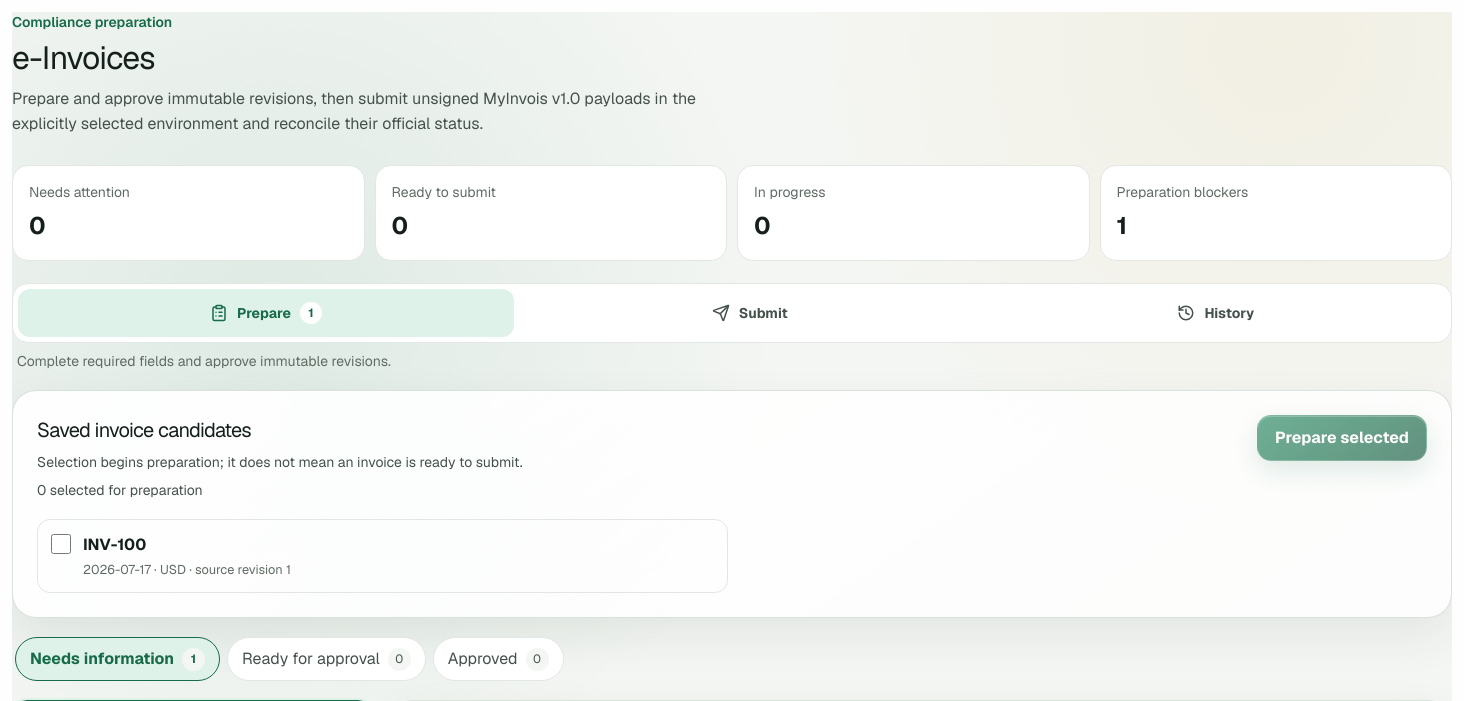
Test: EInvoiceWorkspace › supports keyboard-native candidate selection and reports the selected count
Click the checkbox: (61, 544) [51, 534, 71, 554]
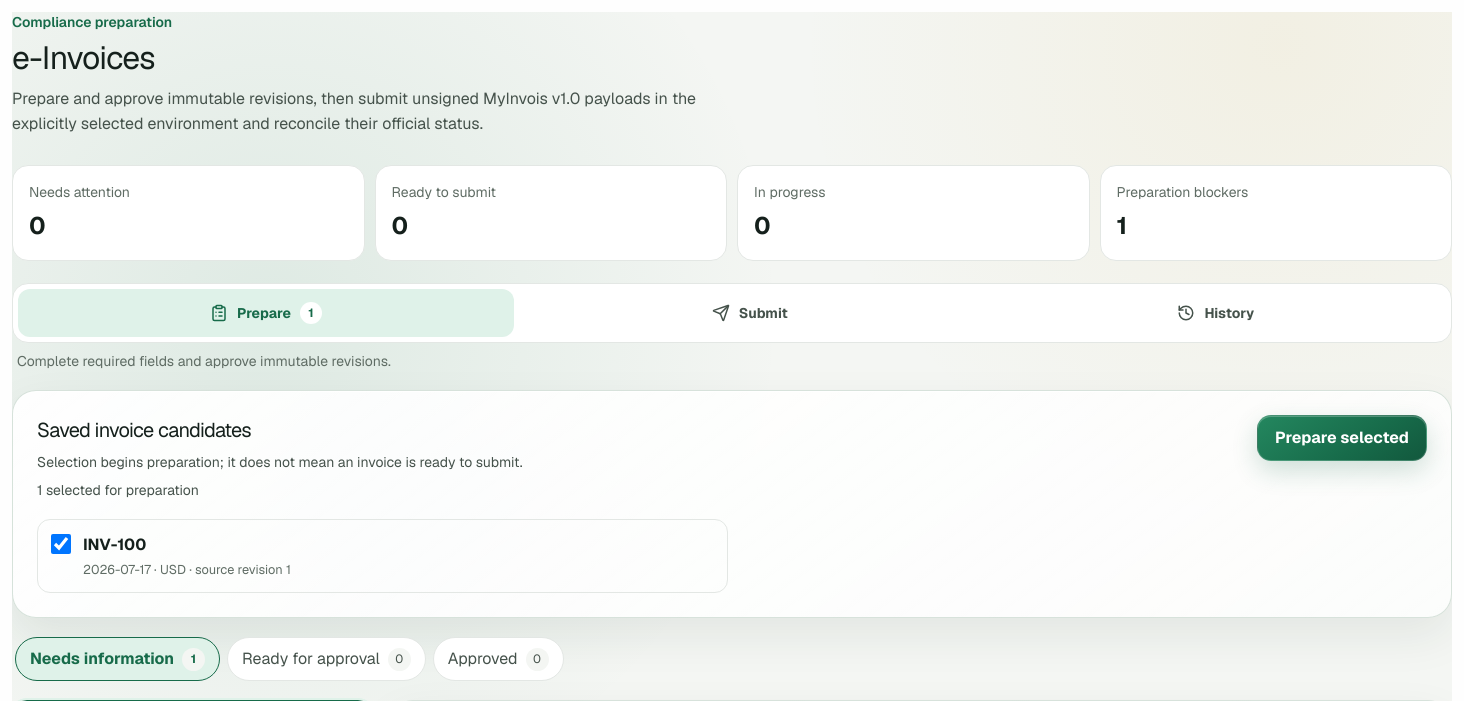
Now the text "1 selected for preparation" is shown, box [37, 481, 199, 499]
Now the button "Prepare selected" is enabled, box [1257, 415, 1427, 461]
